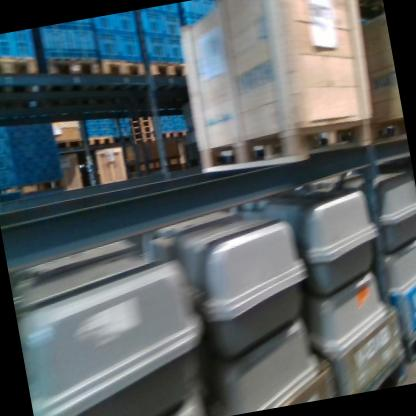pallet: (195, 112, 380, 180), (360, 344, 415, 391), (44, 48, 101, 84), (99, 50, 146, 82), (0, 43, 39, 81), (146, 54, 187, 84), (376, 112, 407, 146), (399, 311, 416, 363), (87, 133, 115, 148), (55, 136, 83, 151), (131, 124, 154, 135), (133, 130, 155, 141), (130, 118, 153, 128), (134, 136, 156, 145), (129, 114, 151, 123), (160, 130, 177, 140), (175, 128, 189, 137)
small_load_carrier: (38, 22, 72, 62), (66, 23, 98, 62), (135, 9, 165, 43), (94, 29, 123, 63), (139, 34, 168, 67), (119, 32, 143, 64), (91, 13, 119, 39), (115, 10, 139, 40), (161, 13, 184, 42), (177, 0, 205, 22), (12, 33, 36, 58), (164, 36, 184, 63), (65, 18, 93, 34), (159, 2, 180, 22), (0, 33, 16, 59), (134, 6, 160, 18), (202, 0, 218, 17)
